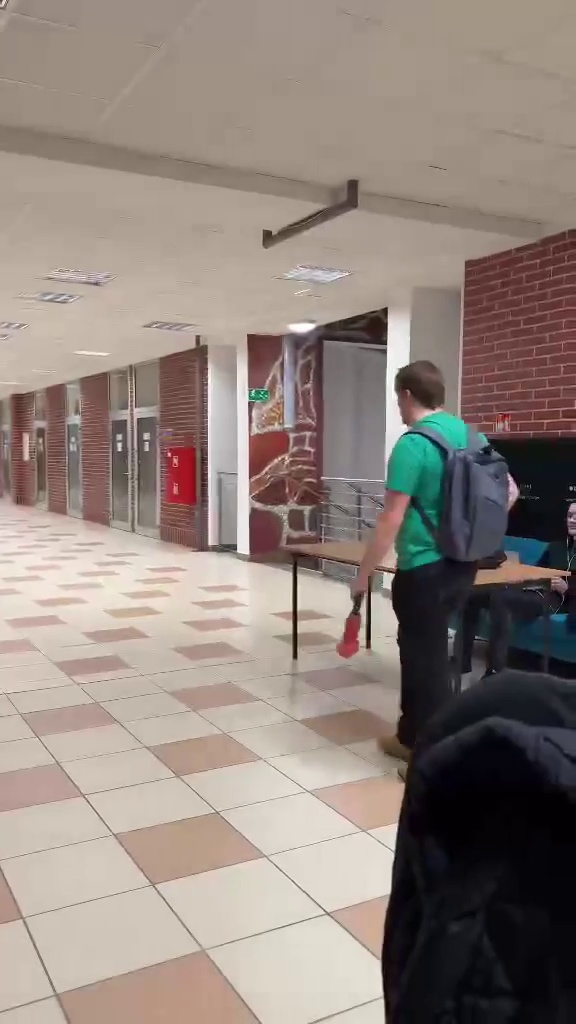no vest: (354, 353, 522, 723)
